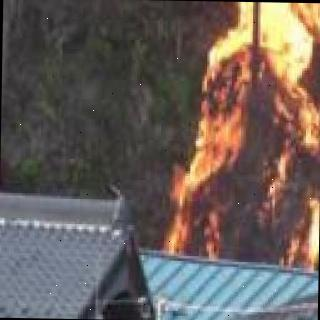fire: (175, 0, 320, 273)
